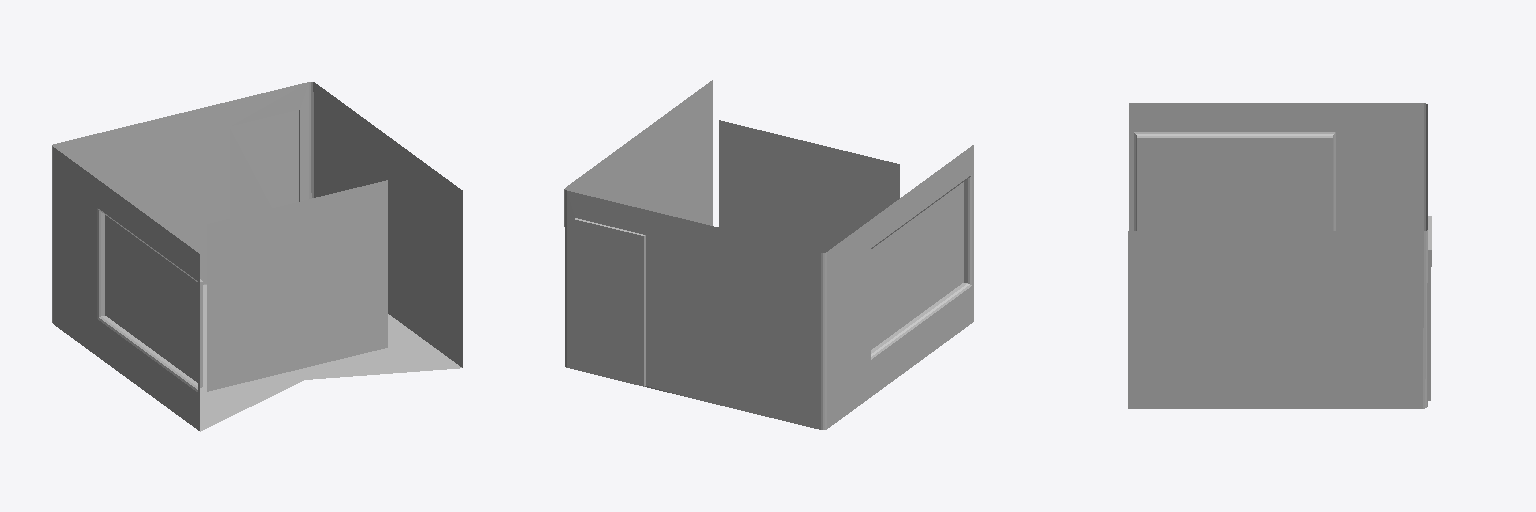
File: belakang1.obj
3 views of the same model, side by side, from view 1: azimuth 30°, elevation 25°; view 2: azimuth 150°, elevation 25°; view 3: azimuth 270°, elevation 25° (orthographic).
Parts seen in each view (by area): view 1: Shop_Low_5; view 2: Shop_Low_5; view 3: Shop_Low_5.
Part boxes in pixels (bbox=[...]): Shop_Low_5: bbox=[52, 82, 462, 431]; Shop_Low_5: bbox=[564, 80, 973, 429]; Shop_Low_5: bbox=[1128, 103, 1431, 408].
Bounding box in the file's own units: 10.81 × 7 × 10.83.